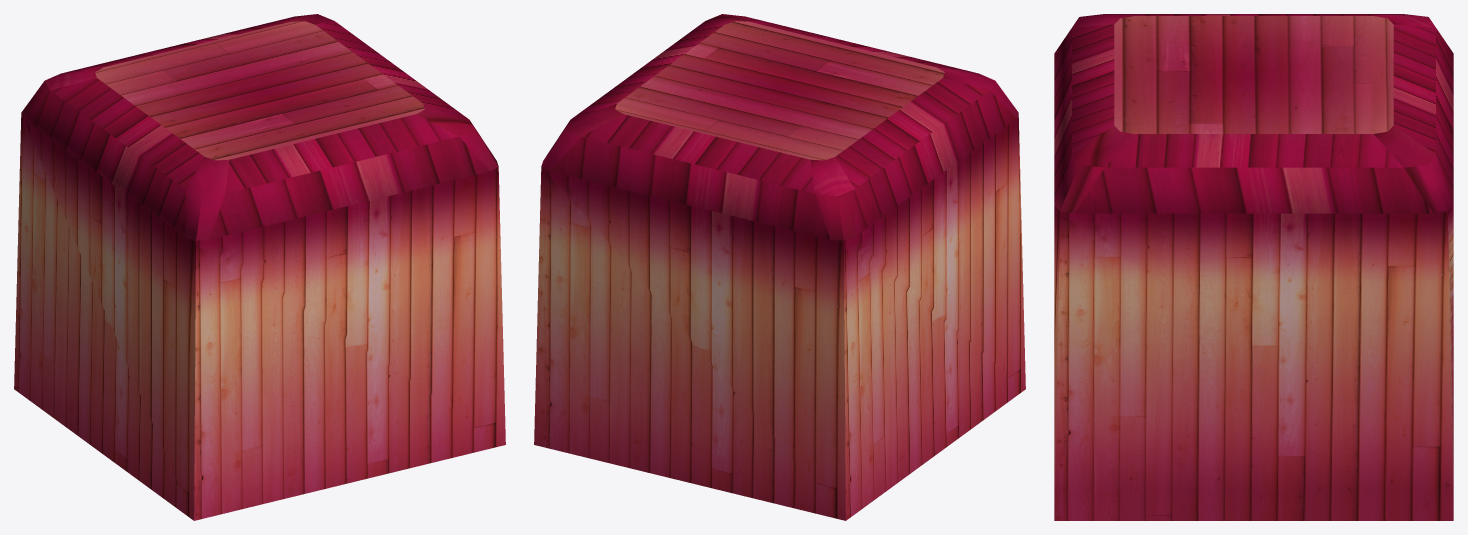
The model's file is 分數按鈕牆.fbx.
3 renders of one model, left to right at view 1: azimuth 30°, elevation 25°; view 2: azimuth 150°, elevation 25°; view 3: azimuth 270°, elevation 25°, orthographic. The views are drawn at different scales.
Visible parts, largest first — view 1: Cube; view 2: Cube; view 3: Cube.
Part boxes in pixels (left/top/right/bottom): Cube: left=14, top=14, right=505, bottom=520; Cube: left=534, top=14, right=1025, bottom=520; Cube: left=1054, top=14, right=1453, bottom=520.
Size of the model in its own units: 200 by 200 by 200.
Materials: 1 (1 with a texture image).
